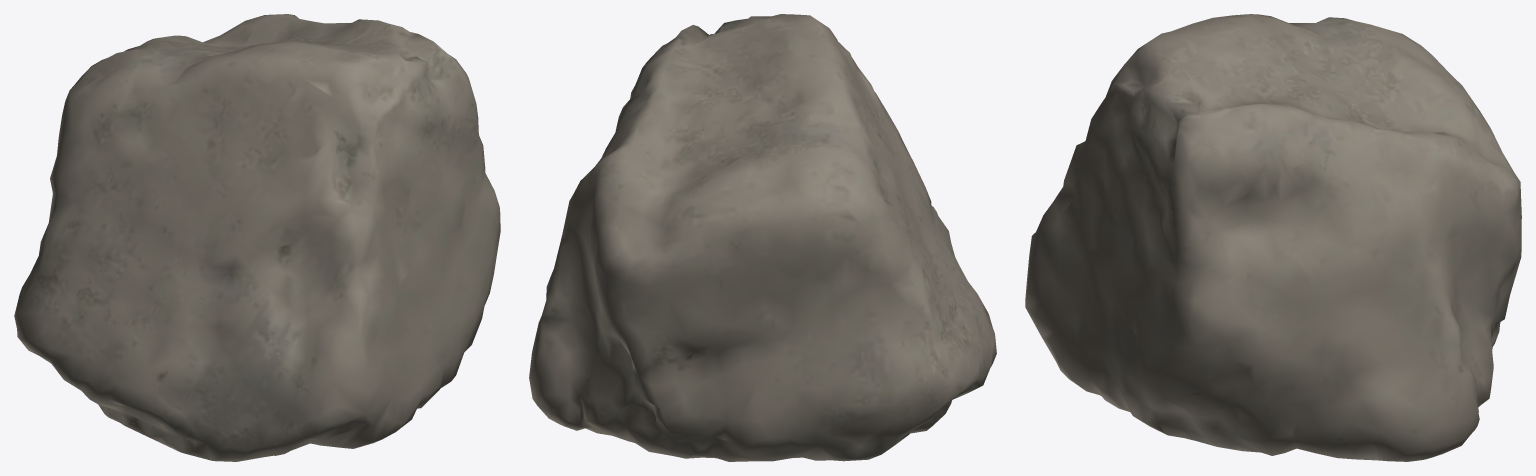
The model's file is moon_rock_02.glb.
The picture shows the model from 3 angles, left to right: view 1: azimuth 30°, elevation 25°; view 2: azimuth 150°, elevation 25°; view 3: azimuth 270°, elevation 25°; orthographic projection. The views are drawn at different scales.
Visible parts, largest first — view 1: moon_rock_02_LOD0; view 2: moon_rock_02_LOD0; view 3: moon_rock_02_LOD0.
Part boxes in pixels (x1=…): moon_rock_02_LOD0: x1=14, y1=14, x2=500, y2=461; moon_rock_02_LOD0: x1=529, y1=14, x2=996, y2=461; moon_rock_02_LOD0: x1=1025, y1=14, x2=1521, y2=461.
Size of the model in its own units: 0.2465 by 0.2019 by 0.2513.
1 material, 1 textured.
